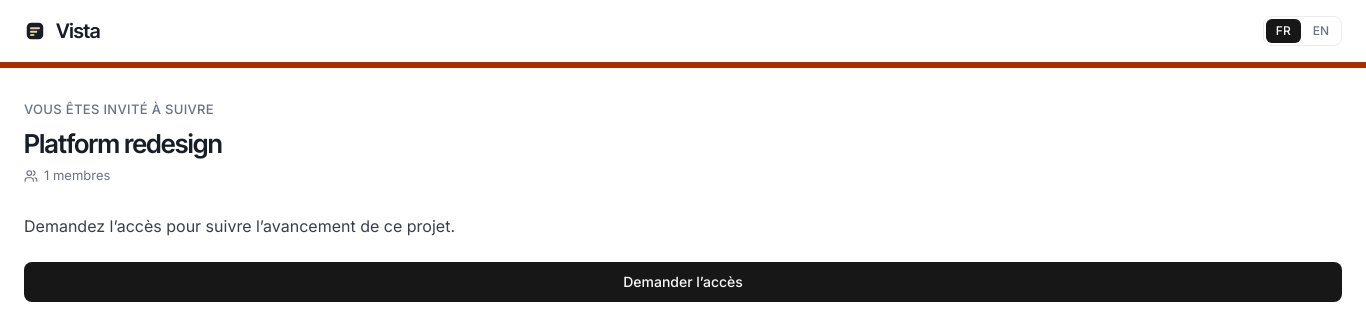
Test: mobile auth (#228) › join: a signed-in stranger can request access to a shared project
This screenshot has width=1366, height=319.
Expected: the heading "Platform redesign" is shown, [24,128,222,158]
Click the button "Demander l’accès": (683, 282) [24,262,1342,302]
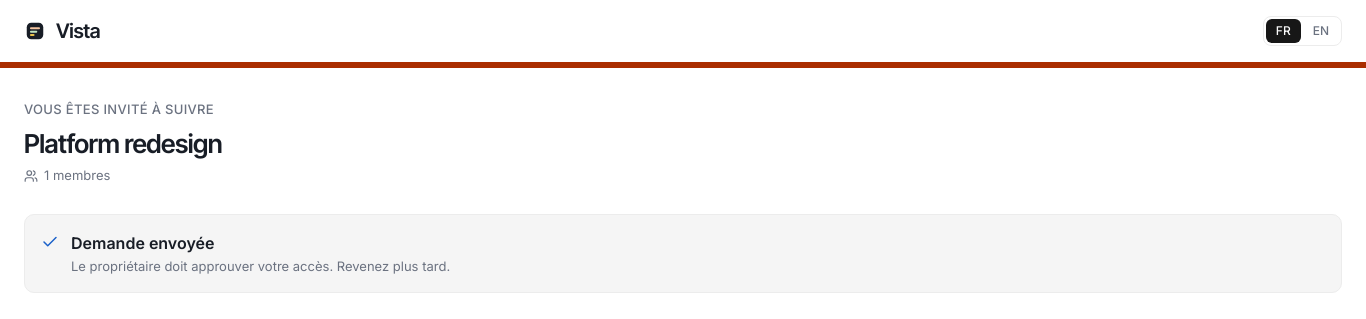
Expected: the text "Demande envoyée" is shown, [71,232,214,252]
